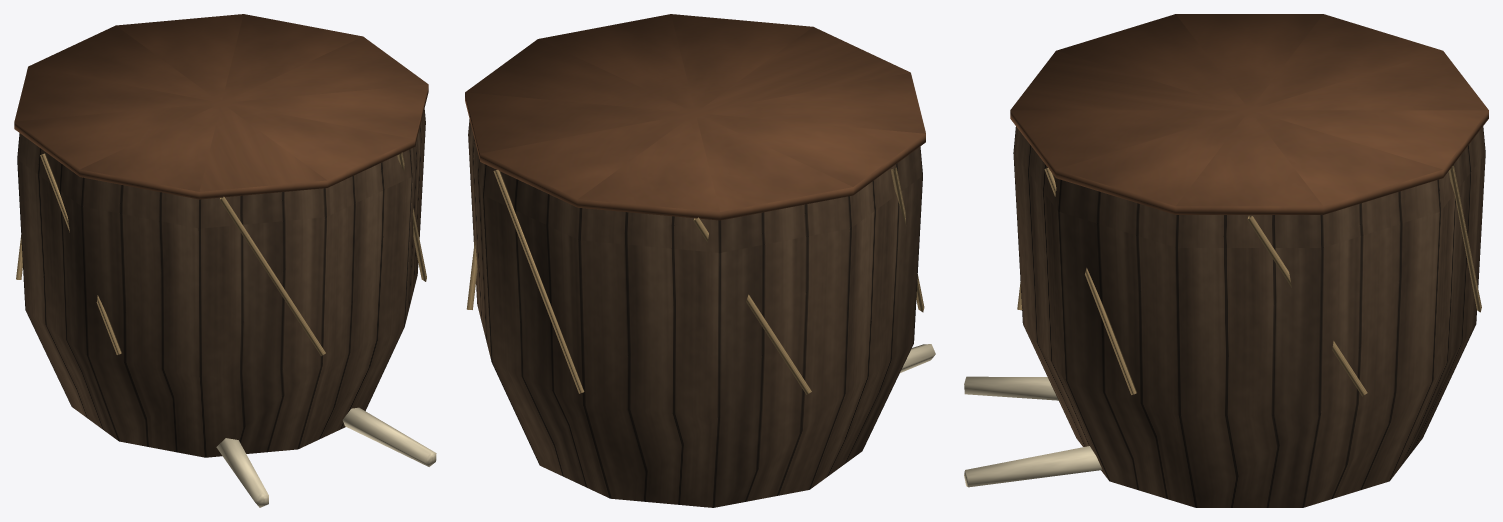
File: WarDrum_1_LOD1.gltf
The picture shows the model from 3 angles, left to right: view 1: azimuth 30°, elevation 25°; view 2: azimuth 150°, elevation 25°; view 3: azimuth 270°, elevation 25°; orthographic projection. The views are drawn at different scales.
Visible parts, largest first — view 1: WarDrum_1_LOD1; view 2: WarDrum_1_LOD1; view 3: WarDrum_1_LOD1.
Part boxes in pixels (box(x1,y1,x2,y2)): WarDrum_1_LOD1: box(14, 14, 436, 507); WarDrum_1_LOD1: box(465, 14, 935, 507); WarDrum_1_LOD1: box(964, 14, 1488, 507).
Bounding box in the file's own units: 1.5 × 1.16 × 1.67.
Materials: 4 (4 with a texture image).
